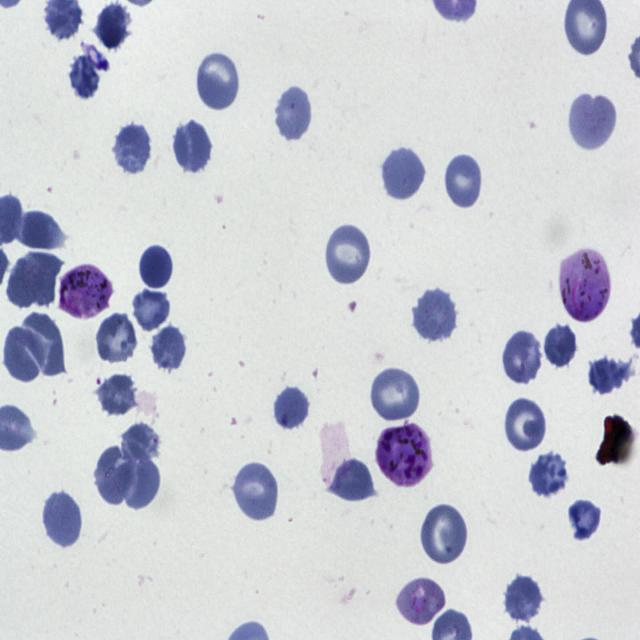difficult: (558, 246, 612, 323)
gametocyte: (58, 262, 113, 320)
red blood cell: (420, 500, 470, 568), (566, 89, 618, 152), (368, 364, 423, 423), (324, 221, 373, 287), (232, 459, 280, 524), (8, 253, 62, 309), (21, 312, 66, 377), (394, 573, 447, 628), (195, 49, 240, 113), (5, 321, 52, 382), (92, 443, 135, 507), (118, 451, 162, 513), (41, 488, 84, 550), (412, 286, 458, 343), (381, 144, 426, 202), (272, 83, 314, 144), (504, 396, 548, 454), (501, 328, 544, 387), (327, 456, 378, 504), (94, 311, 138, 366), (443, 152, 484, 210), (173, 118, 214, 174), (527, 450, 571, 500), (112, 124, 154, 174), (96, 371, 139, 418), (504, 574, 544, 624), (149, 324, 189, 374), (92, 2, 132, 52), (128, 287, 170, 334), (137, 242, 176, 290), (566, 495, 605, 542), (271, 385, 310, 430), (122, 422, 163, 464), (588, 358, 632, 395), (68, 54, 100, 100), (545, 322, 576, 367)
schizont: (374, 421, 432, 490)
